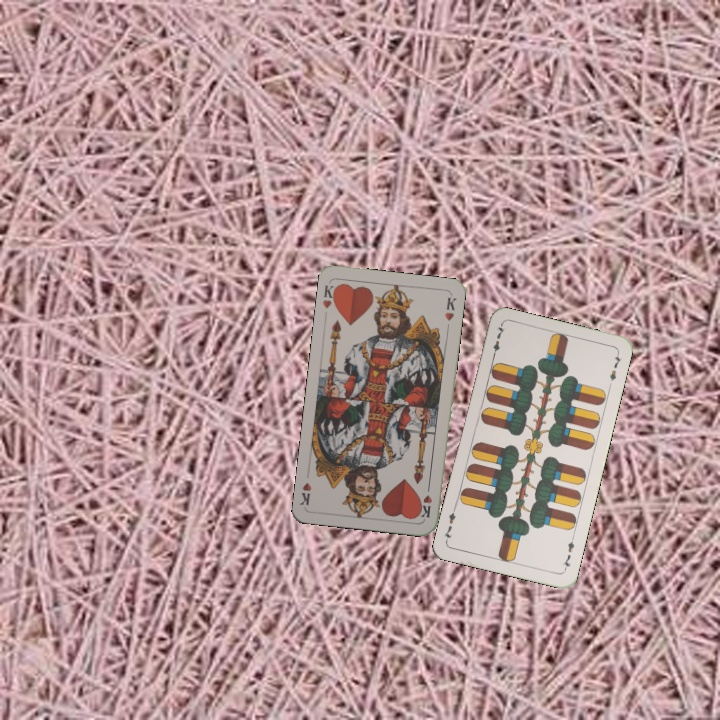E7: (488, 321, 508, 361), (559, 533, 577, 573)
HK: (416, 480, 435, 520), (318, 281, 340, 311)
